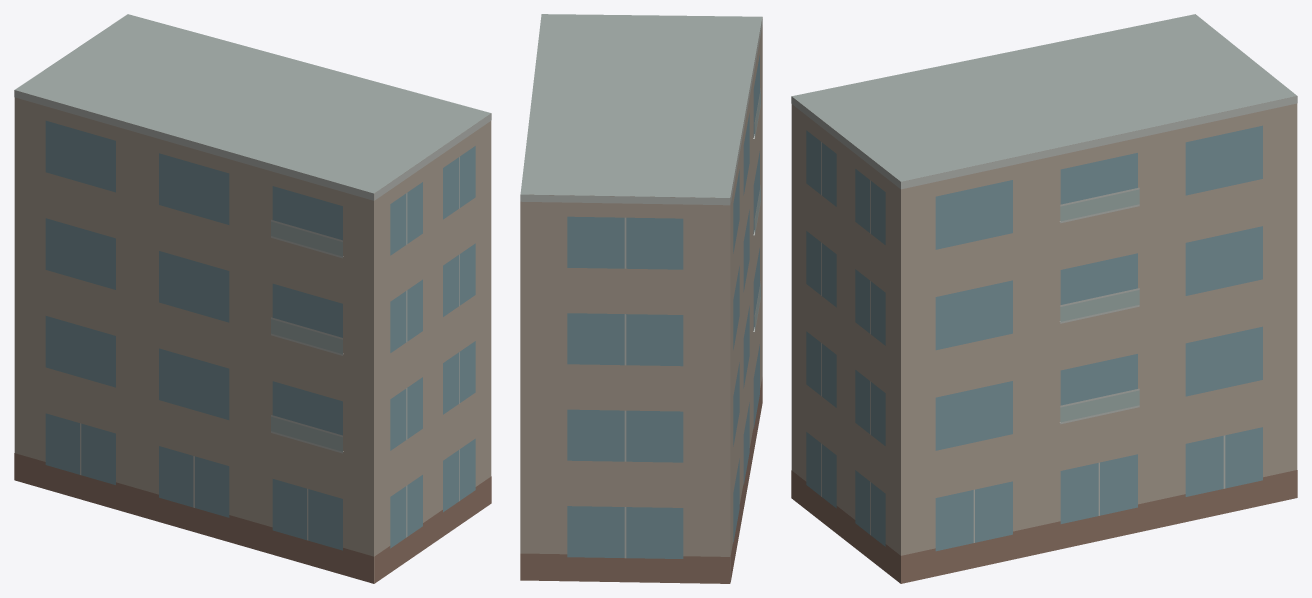
Rendered from survey-upis-32749585.glb.
3 renders of one model, left to right at view 1: azimuth 30°, elevation 25°; view 2: azimuth 150°, elevation 25°; view 3: azimuth 270°, elevation 25°, orthographic. The views are drawn at different scales.
Visible parts, largest first — view 1: survey-upis-32749585.tmp; view 2: survey-upis-32749585.tmp; view 3: survey-upis-32749585.tmp.
Boxes of the visible parts, x1=… form: survey-upis-32749585.tmp: x1=14, y1=14, x2=491, y2=583; survey-upis-32749585.tmp: x1=520, y1=14, x2=762, y2=583; survey-upis-32749585.tmp: x1=791, y1=14, x2=1297, y2=583.
Bounding box in the file's own units: 11.65 × 13 × 14.84.
